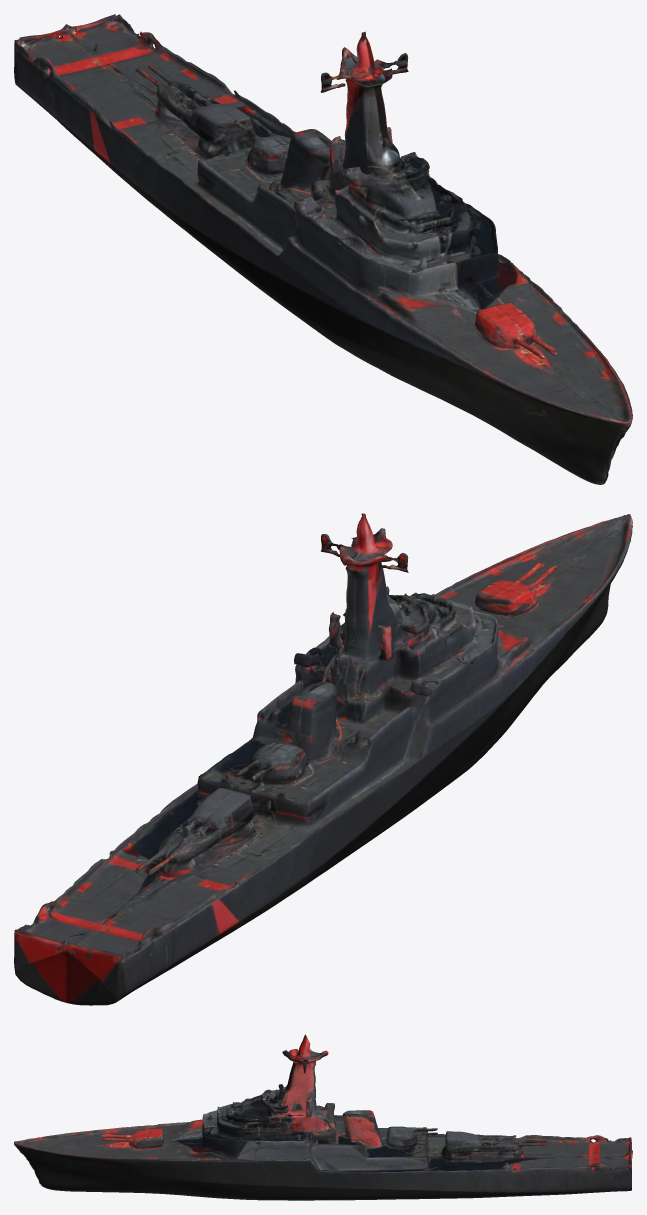
Rendered from cruiser.glb.
The picture shows the model from 3 angles, top to bottom: view 1: azimuth 30°, elevation 25°; view 2: azimuth 150°, elevation 25°; view 3: azimuth 270°, elevation 25°; orthographic projection. The views are drawn at different scales.
Bounding box in the file's own units: 0.2998 × 0.5529 × 1.99.
Materials: 1 (1 with a texture image).
